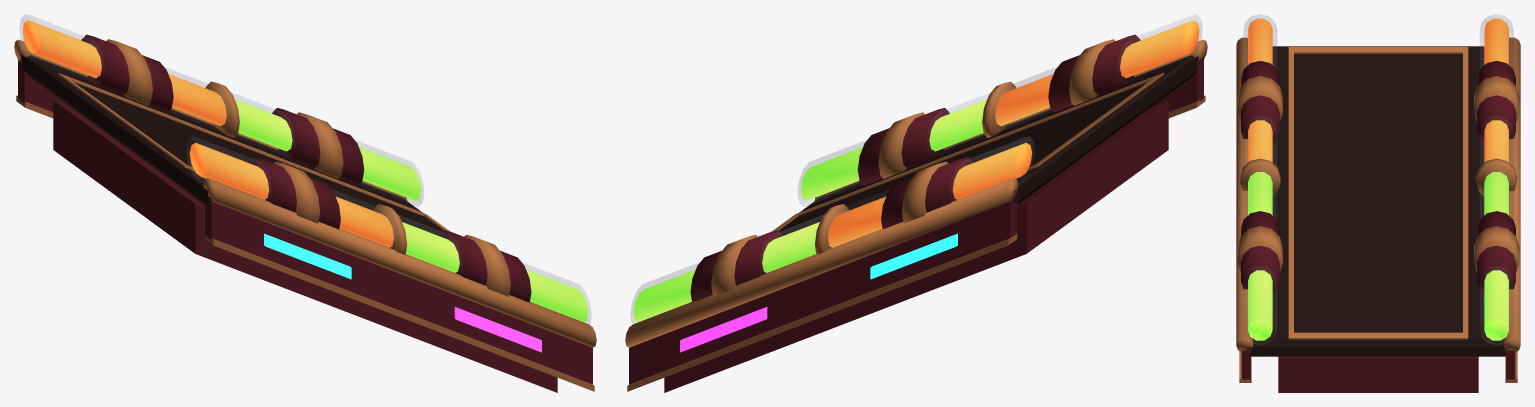
Rendered from Deck_Underpass_Ramp.glb.
3 renders of one model, left to right at view 1: azimuth 30°, elevation 25°; view 2: azimuth 150°, elevation 25°; view 3: azimuth 270°, elevation 25°, orthographic. The views are drawn at different scales.
Visible parts, largest first — view 1: CP_Deck_Underpass_Ramp; view 2: CP_Deck_Underpass_Ramp; view 3: CP_Deck_Underpass_Ramp.
Boxes of the visible parts, x1,y1,x2,y2 form: CP_Deck_Underpass_Ramp: [14, 14, 596, 392]; CP_Deck_Underpass_Ramp: [625, 14, 1207, 392]; CP_Deck_Underpass_Ramp: [1236, 14, 1520, 392].
Size of the model in its own units: 4 by 3.56 by 3.66.
